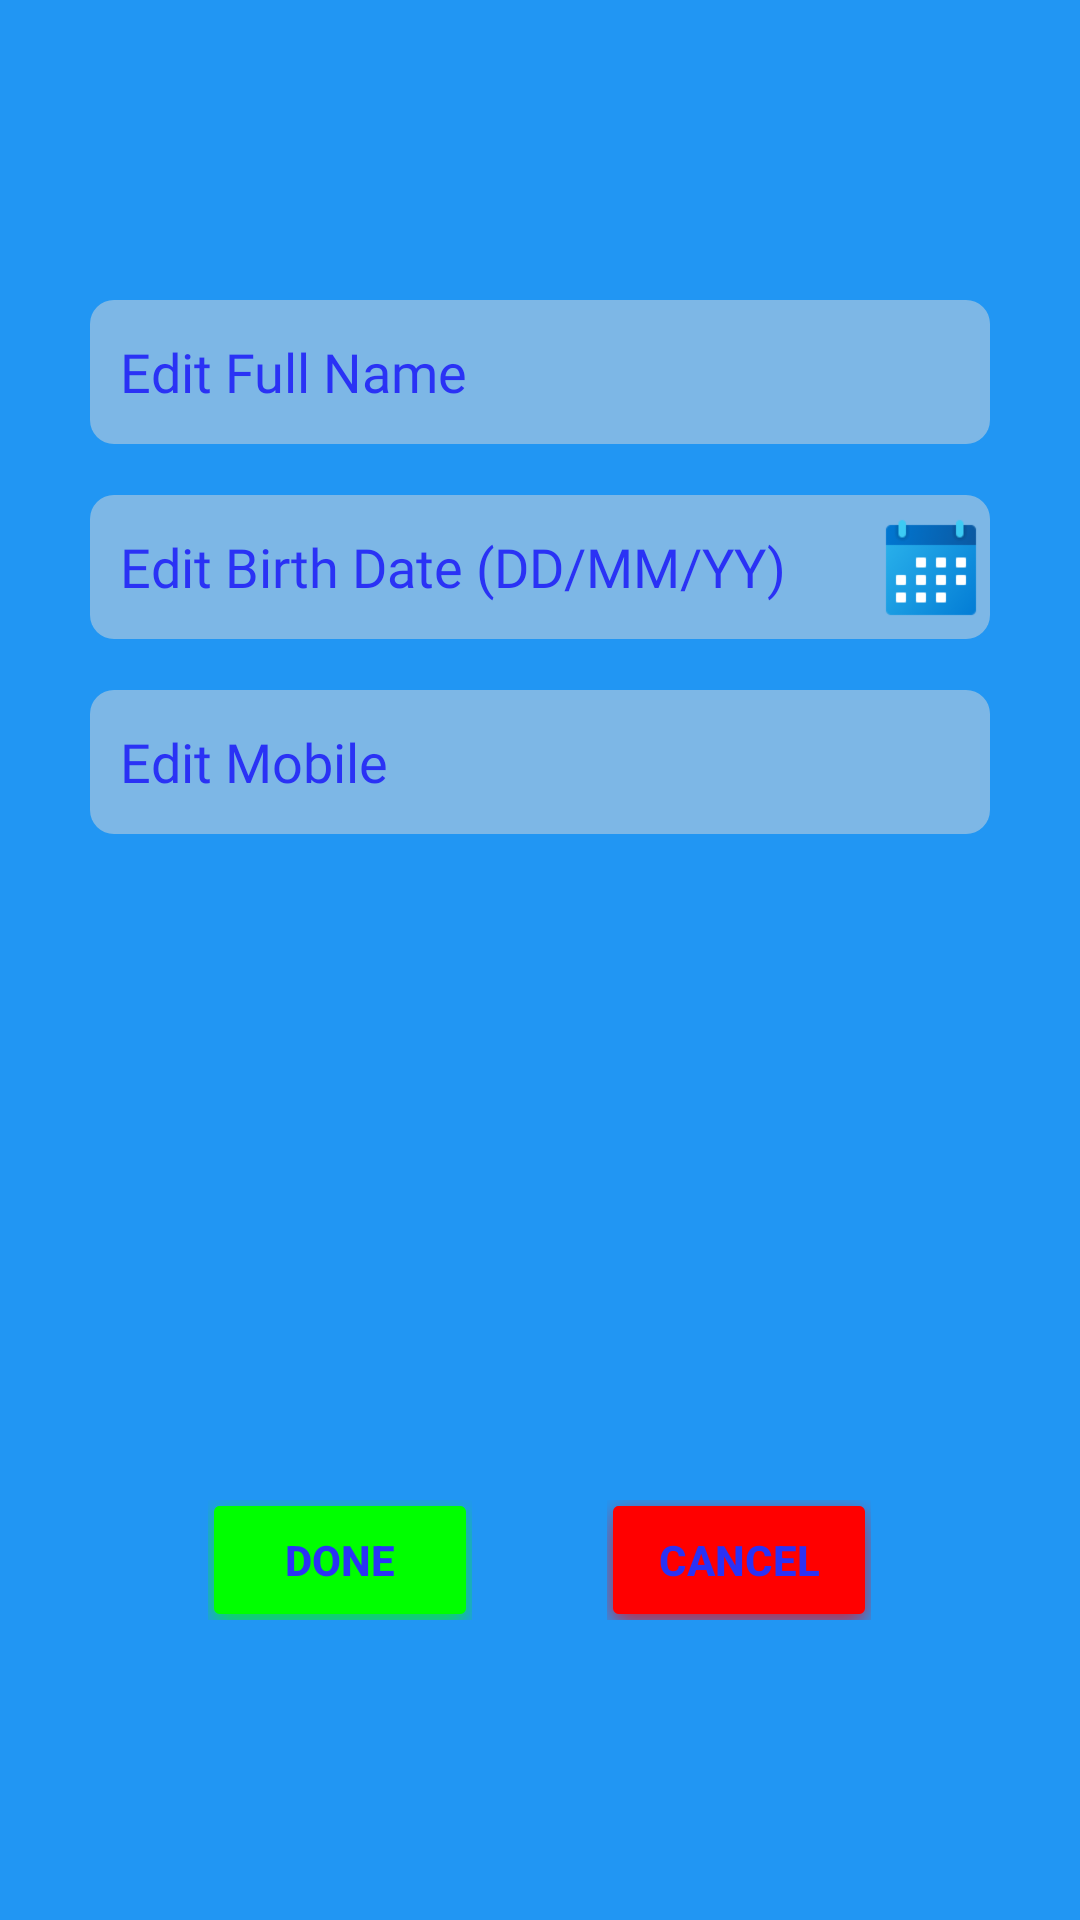

Point at icon controls on the screen. Image size 1080w x 1920h, points as [x,y].
calender: [931,567]
